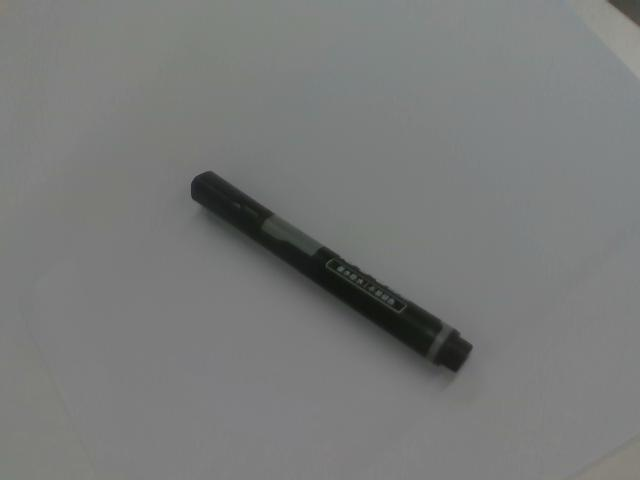pen: (190, 173, 473, 375)
